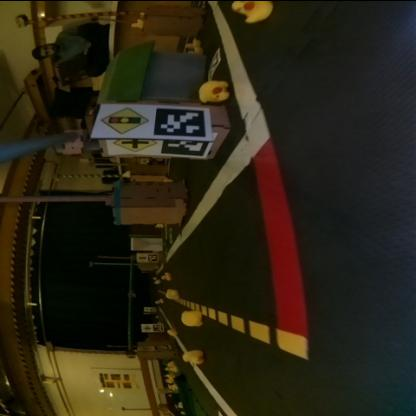Duckie: (231, 0, 273, 22), (198, 79, 228, 100), (180, 309, 202, 325), (182, 349, 202, 363), (164, 288, 178, 298), (186, 38, 200, 45), (130, 18, 142, 26), (161, 272, 170, 278), (186, 48, 202, 51)
Intersection sign: (111, 138, 156, 152)
QR code: (154, 106, 208, 136), (162, 138, 204, 156), (206, 46, 221, 78), (148, 253, 156, 259), (154, 324, 162, 330)
Signal sign: (100, 104, 148, 132), (138, 253, 146, 259)
